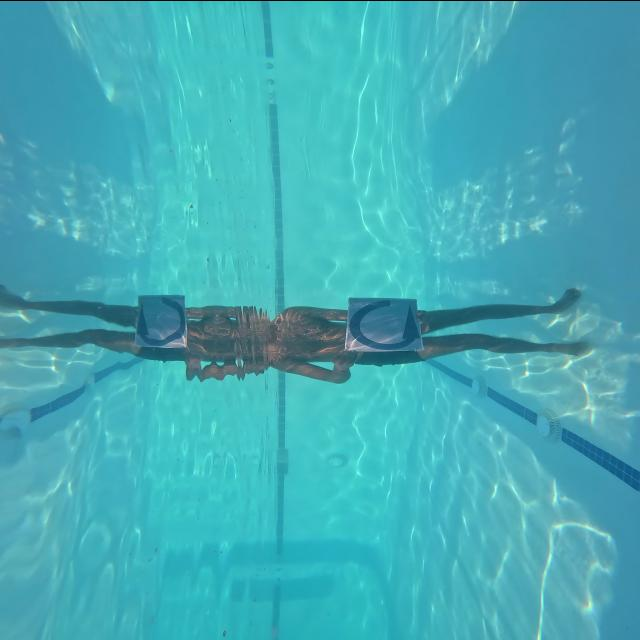blue_side: (340, 289, 418, 354)
